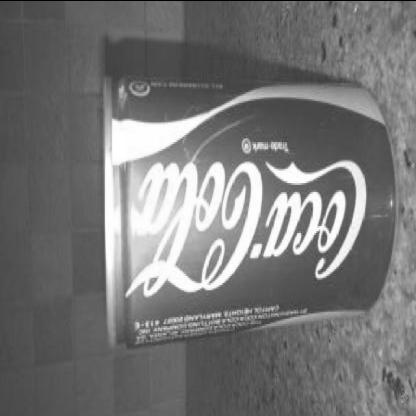alumunium_can: (95, 64, 398, 357)
